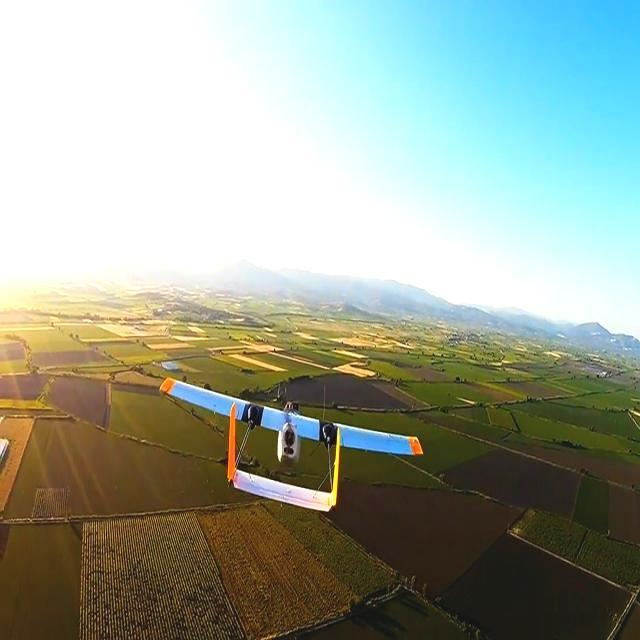iha: (154, 364, 430, 524)
